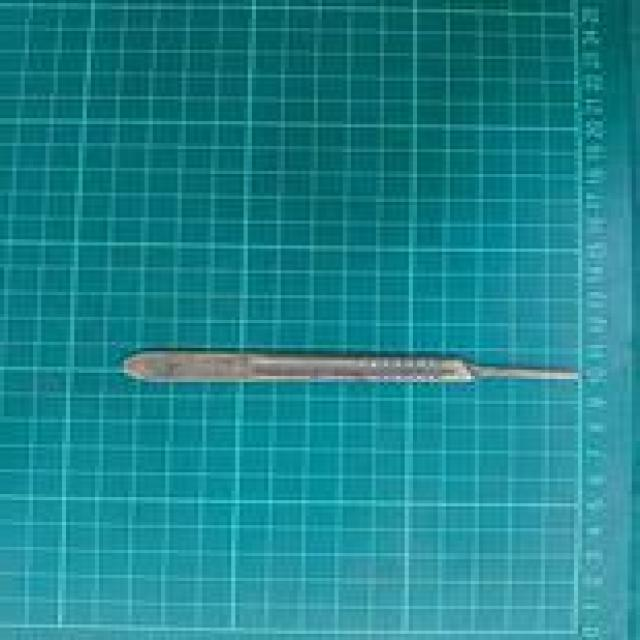Scalpel: (115, 344, 590, 388)
